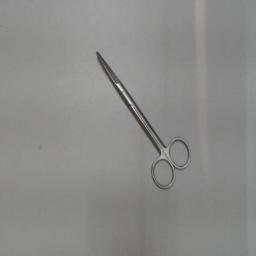Curved Mayo Scissors: (94, 47, 194, 195)
